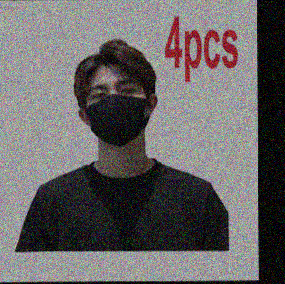with_mask: (85, 75, 148, 146)
